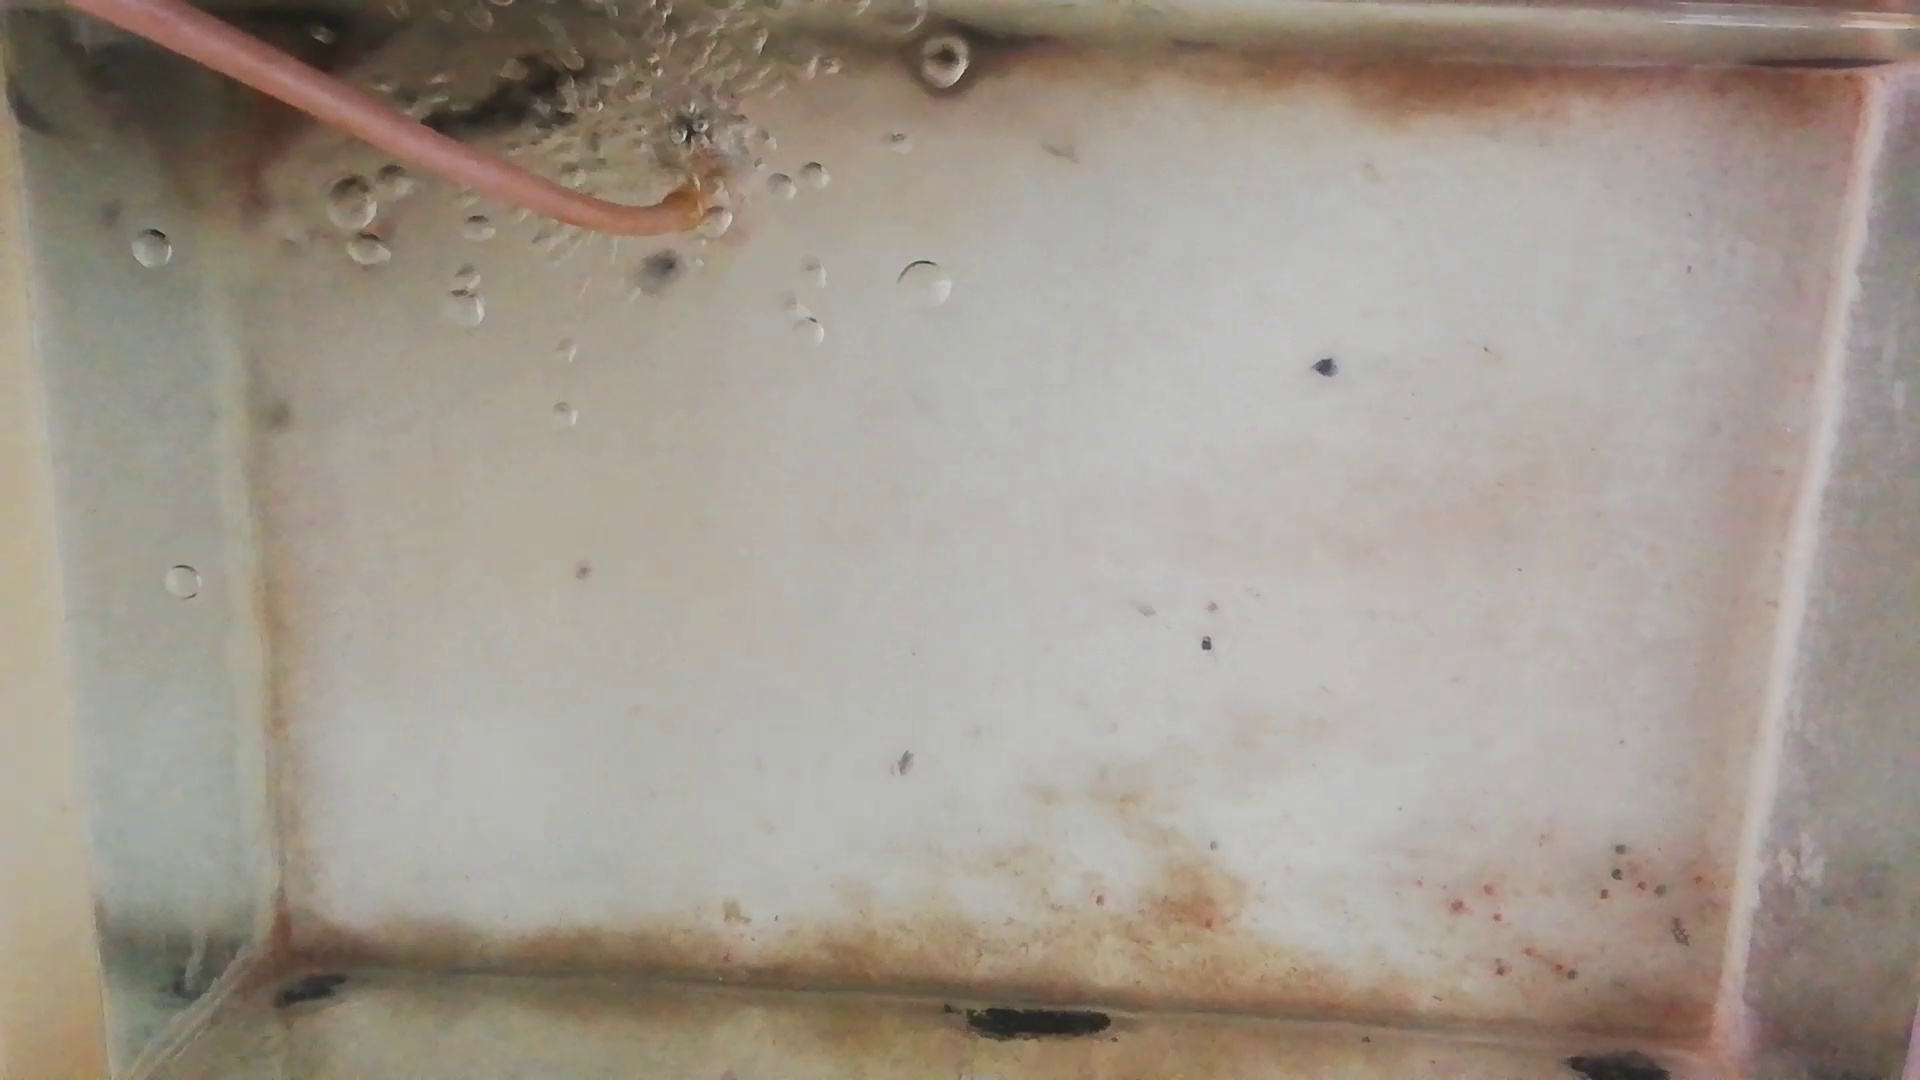fish: (249, 36, 367, 224), (400, 61, 589, 142)
